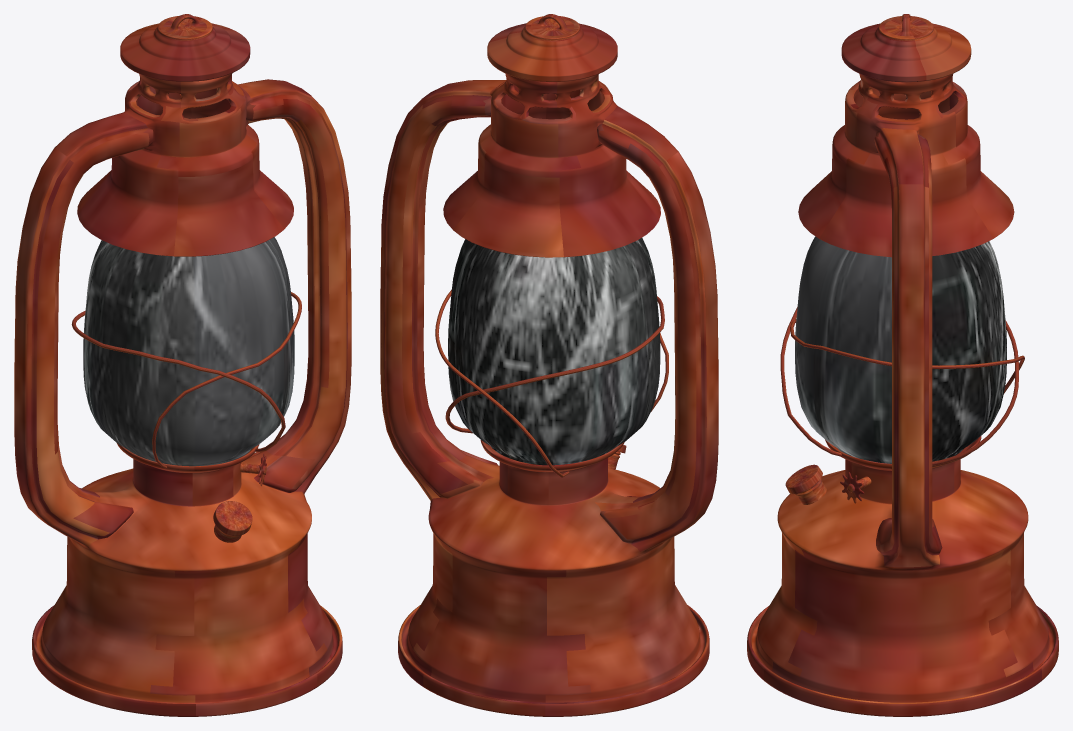
The model's file is oldlight.obj.
3 renders of one model, left to right at view 1: azimuth 30°, elevation 25°; view 2: azimuth 150°, elevation 25°; view 3: azimuth 270°, elevation 25°, orthographic.
Visible parts, largest first — view 1: gaslamb_g4_g4_gas_lamb3_gaslamb2_gaslamb2_gaslamb2_gaslamb2_gasl, polySurface1_gaslamb_g4_g4_gas_lamb3_gaslamb2_gaslamb2_gaslamb2_; view 2: gaslamb_g4_g4_gas_lamb3_gaslamb2_gaslamb2_gaslamb2_gaslamb2_gasl, polySurface1_gaslamb_g4_g4_gas_lamb3_gaslamb2_gaslamb2_gaslamb2_; view 3: gaslamb_g4_g4_gas_lamb3_gaslamb2_gaslamb2_gaslamb2_gaslamb2_gasl, polySurface1_gaslamb_g4_g4_gas_lamb3_gaslamb2_gaslamb2_gaslamb2_.
Part boxes in pixels (x1=…): gaslamb_g4_g4_gas_lamb3_gaslamb2_gaslamb2_gaslamb2_gaslamb2_gasl: x1=14, y1=14, x2=351, y2=716; polySurface1_gaslamb_g4_g4_gas_lamb3_gaslamb2_gaslamb2_gaslamb2_: x1=83, y1=237, x2=294, y2=466; gaslamb_g4_g4_gas_lamb3_gaslamb2_gaslamb2_gaslamb2_gaslamb2_gasl: x1=380, y1=14, x2=718, y2=716; polySurface1_gaslamb_g4_g4_gas_lamb3_gaslamb2_gaslamb2_gaslamb2_: x1=448, y1=237, x2=660, y2=465; gaslamb_g4_g4_gas_lamb3_gaslamb2_gaslamb2_gaslamb2_gaslamb2_gasl: x1=747, y1=14, x2=1058, y2=716; polySurface1_gaslamb_g4_g4_gas_lamb3_gaslamb2_gaslamb2_gaslamb2_: x1=795, y1=236, x2=1006, y2=463.
Bounding box in the file's own units: 3.12 × 5.79 × 2.57.
Materials: 2 (2 with a texture image).
